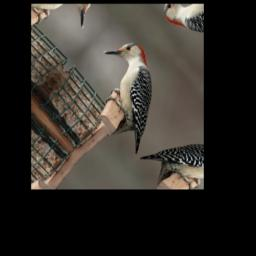Woodpecker: (69, 29, 189, 159)
